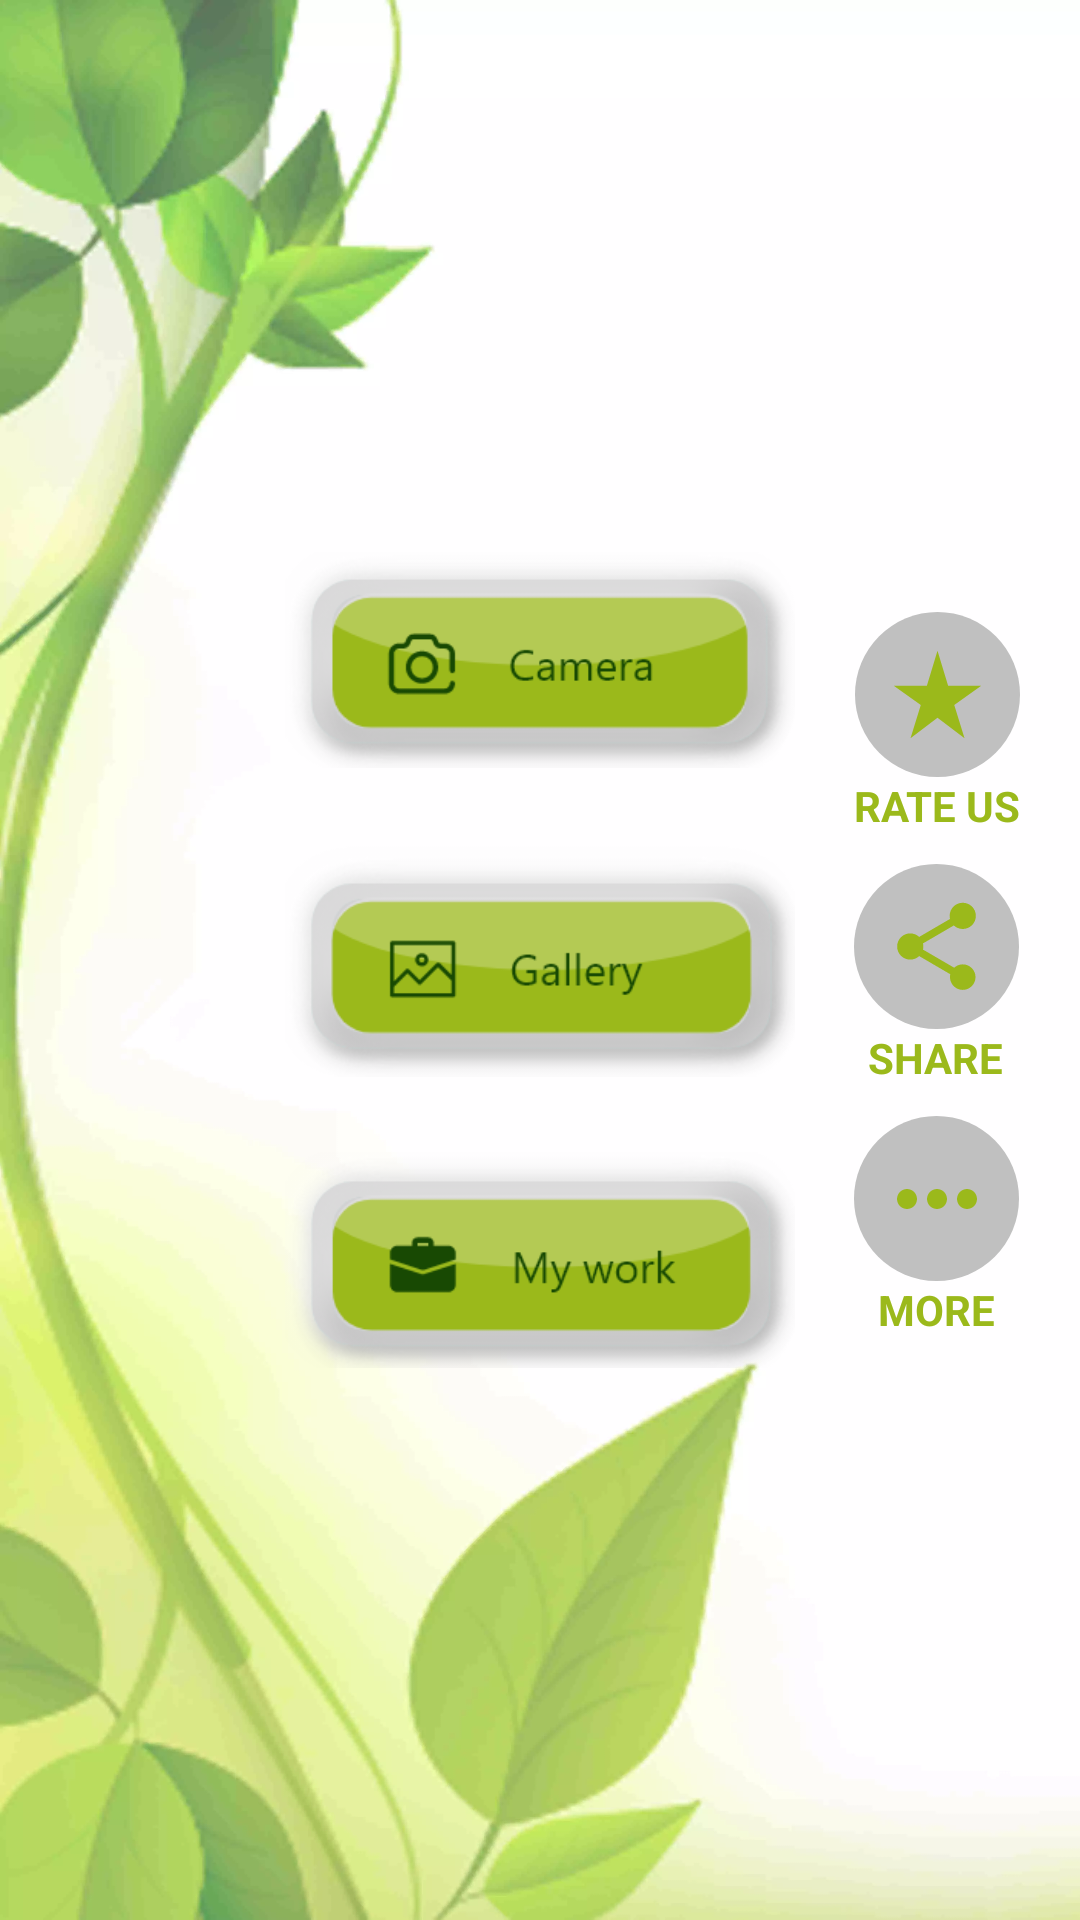

Screen size 1080px×1920px. Icon name, then its box in pixels as (x1, y1, x2, y2):
star rate: (855, 612, 1020, 777)
